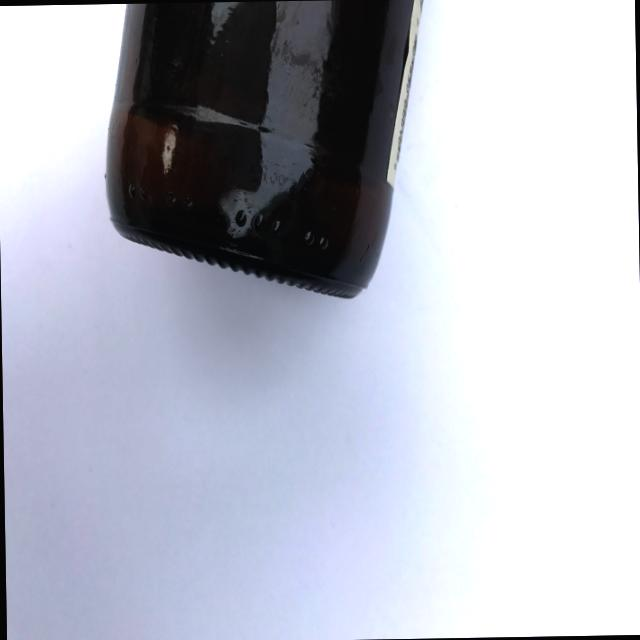Glass: (86, 0, 441, 310)
